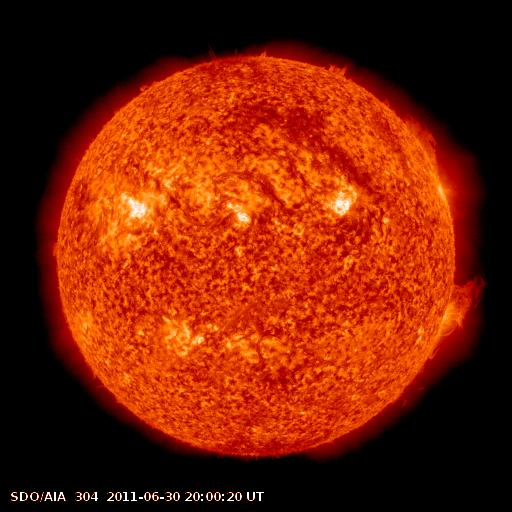prominence: (427, 270, 493, 359), (381, 99, 443, 182), (323, 54, 357, 86)
